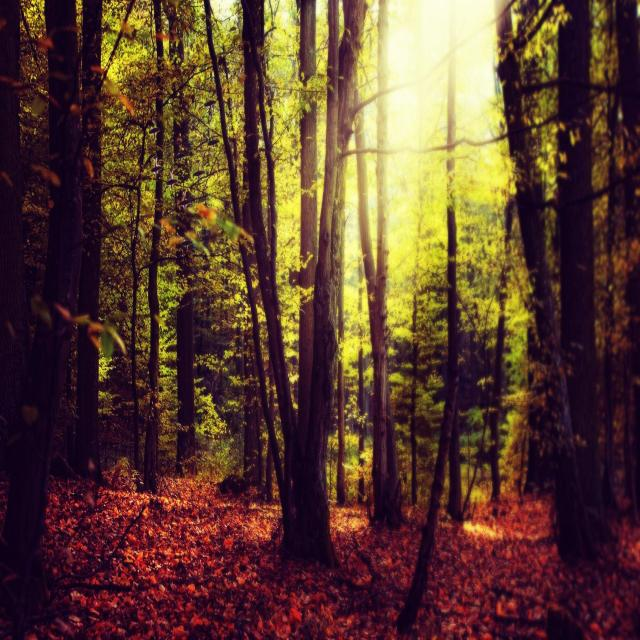airplane: (149, 159, 163, 178), (191, 165, 206, 182), (148, 119, 160, 138), (178, 194, 192, 210), (167, 171, 177, 190), (204, 96, 217, 110), (206, 136, 221, 148), (182, 235, 192, 250), (175, 149, 185, 163)
